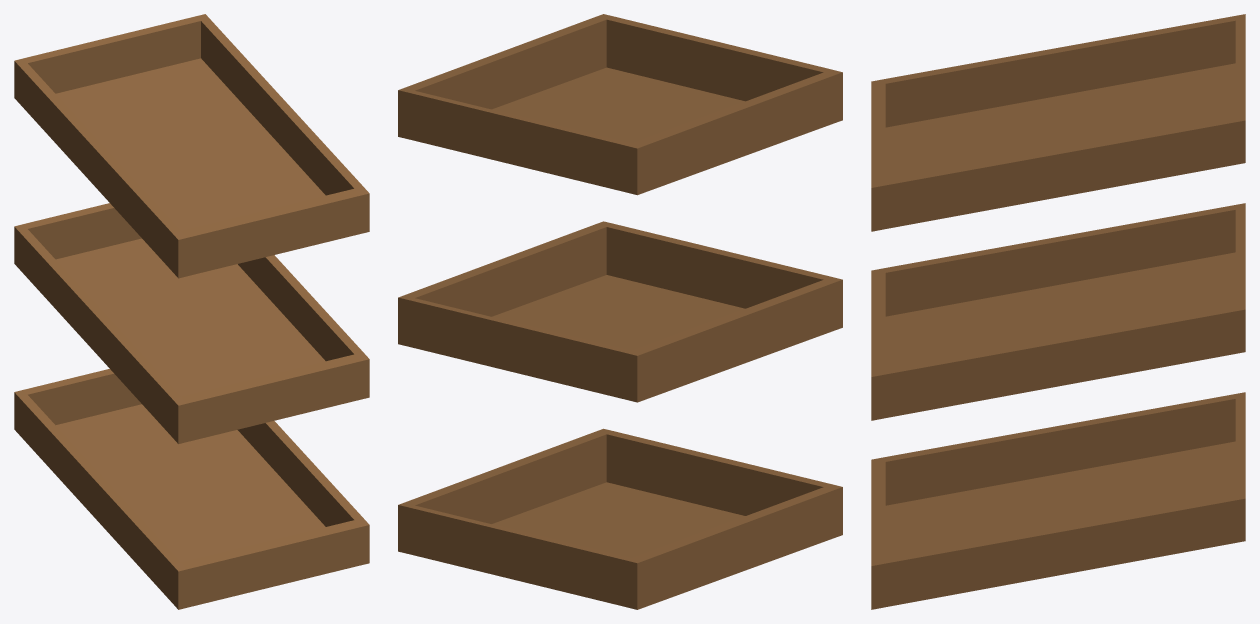
Rendered from FruitBins_EmptyBins.fbx.
3 views of the same model, side by side, from view 1: azimuth 30°, elevation 25°; view 2: azimuth 150°, elevation 25°; view 3: azimuth 270°, elevation 25° (orthographic). The views are drawn at different scales.
Visible parts, largest first — view 1: FruitBins_EmptyBins; view 2: FruitBins_EmptyBins; view 3: FruitBins_EmptyBins.
Part boxes in pixels (x1,y1,x2,y2): FruitBins_EmptyBins: (14,14,369,609); FruitBins_EmptyBins: (398,14,842,609); FruitBins_EmptyBins: (871,14,1245,609).
Bounding box in the file's own units: 71.62 × 154 × 107.
